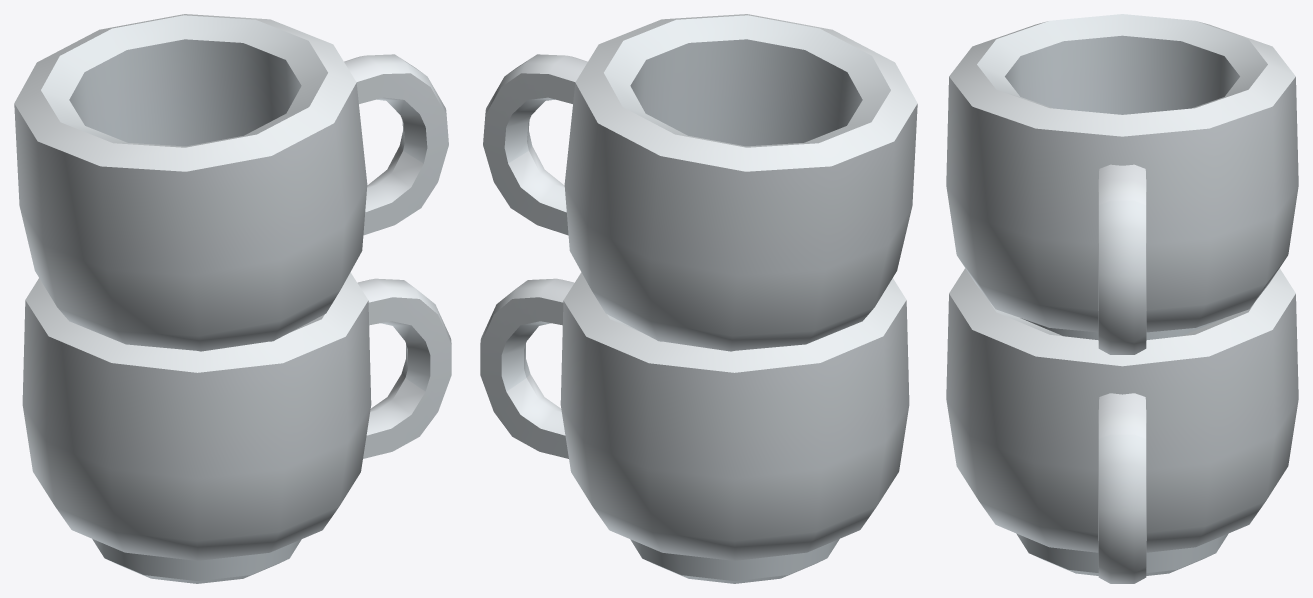
Rendered from mug-b-stacked.glb.
3 views of the same model, side by side, from view 1: azimuth 30°, elevation 25°; view 2: azimuth 150°, elevation 25°; view 3: azimuth 270°, elevation 25° (orthographic).
Visible parts, largest first — view 1: mug_B_stacked; view 2: mug_B_stacked; view 3: mug_B_stacked.
Part boxes in pixels (bbox=[...]): mug_B_stacked: bbox=[14, 14, 451, 583]; mug_B_stacked: bbox=[480, 14, 917, 583]; mug_B_stacked: bbox=[946, 14, 1298, 583].
Bounding box in the file's own units: 0.5667 × 0.6332 × 0.4218.
Materials: 1 (1 with a texture image).
